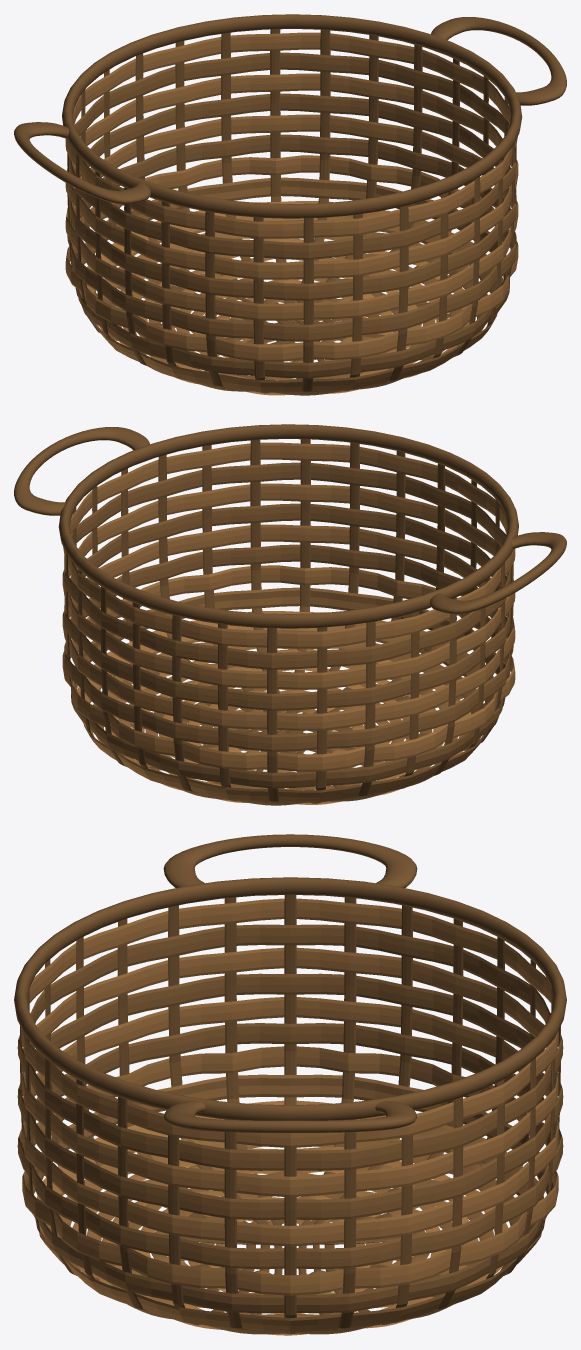
Rendered from Basket.fbx.
The picture shows the model from 3 angles, top to bottom: view 1: azimuth 30°, elevation 25°; view 2: azimuth 150°, elevation 25°; view 3: azimuth 270°, elevation 25°; orthographic projection. The views are drawn at different scales.
Parts seen in each view (by area): view 1: Цилиндр.009, Цилиндр.001, Цилиндр, ОкружностьБезье, ОкружностьБезье.001, Цилиндр.011, Цилиндр.010; view 2: Цилиндр.009, Цилиндр.001, Цилиндр, ОкружностьБезье, ОкружностьБезье.001, Цилиндр.011, Цилиндр.010; view 3: Цилиндр.009, Цилиндр.001, Цилиндр, ОкружностьБезье, ОкружностьБезье.001, Цилиндр.011, Цилиндр.010.
Part boxes in pixels (box(x1,y1,x2,y2)): Цилиндр.009: box(65, 32, 518, 392); Цилиндр.001: box(67, 52, 516, 378); Цилиндр: box(67, 29, 516, 393); ОкружностьБезье: box(62, 14, 522, 218); ОкружностьБезье.001: box(14, 17, 566, 203); Цилиндр.011: box(99, 232, 487, 395); Цилиндр.010: box(115, 238, 475, 395); Цилиндр.009: box(62, 442, 515, 802); Цилиндр.001: box(64, 462, 513, 788); Цилиндр: box(64, 439, 513, 803); ОкружностьБезье: box(58, 424, 518, 628); ОкружностьБезье.001: box(14, 427, 566, 613); Цилиндр.011: box(93, 642, 481, 805); Цилиндр.010: box(105, 648, 471, 804); Цилиндр.009: box(22, 898, 558, 1332); Цилиндр.001: box(17, 924, 563, 1313); Цилиндр: box(20, 895, 560, 1334); ОкружностьБезье: box(14, 877, 566, 1120); ОкружностьБезье.001: box(163, 834, 417, 1132); Цилиндр.011: box(57, 1138, 523, 1334); Цилиндр.010: box(72, 1146, 508, 1335).
Size of the model in its own units: 254 by 112 by 204.
